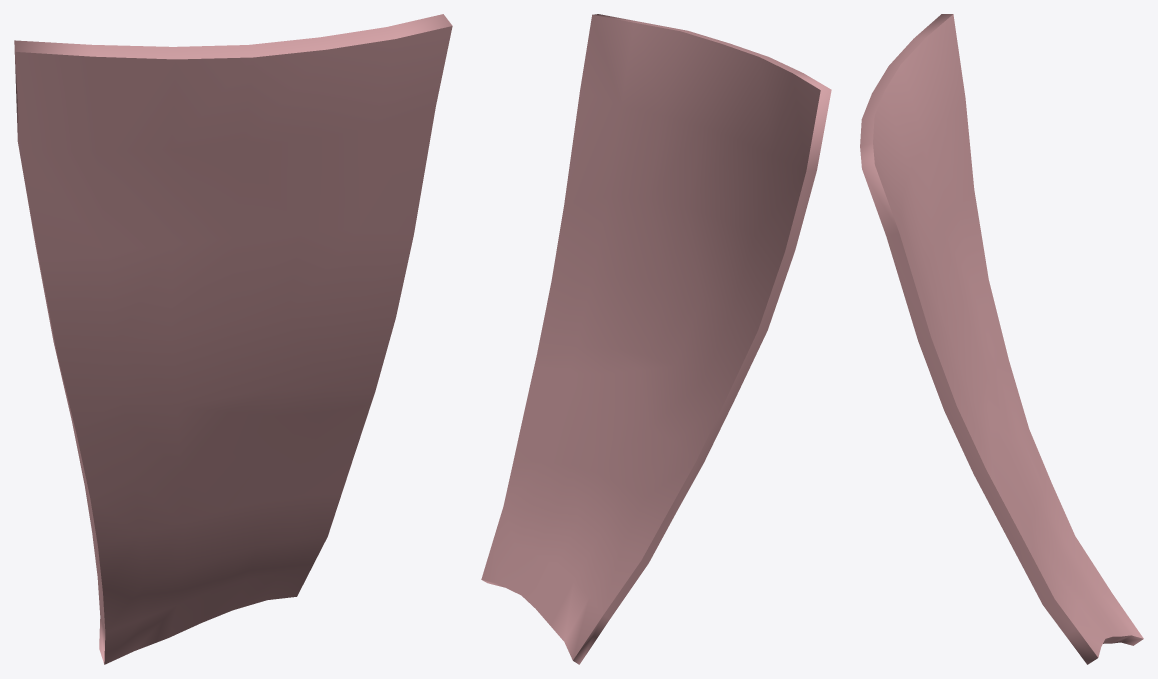
3 views of the same model, side by side, from view 1: azimuth 30°, elevation 25°; view 2: azimuth 150°, elevation 25°; view 3: azimuth 270°, elevation 25° (orthographic). The views are drawn at different scales.
Parts seen in each view (by area): view 1: ZA_adcefbf19ae06f31; view 2: ZA_adcefbf19ae06f31; view 3: ZA_adcefbf19ae06f31.
Boxes of the visible parts, x1,y1,x2,y2 form: ZA_adcefbf19ae06f31: [14, 14, 452, 664]; ZA_adcefbf19ae06f31: [481, 14, 831, 664]; ZA_adcefbf19ae06f31: [860, 14, 1143, 664].
Bounding box in the file's own units: 0.0704 × 0.1348 × 0.0624.
